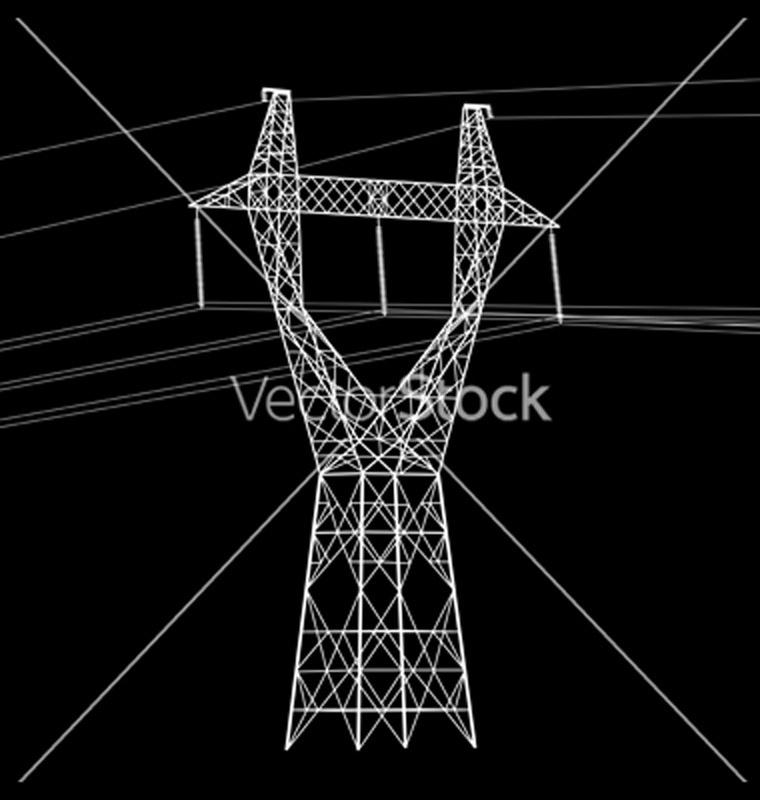power_tower: (206, 115, 523, 732)
